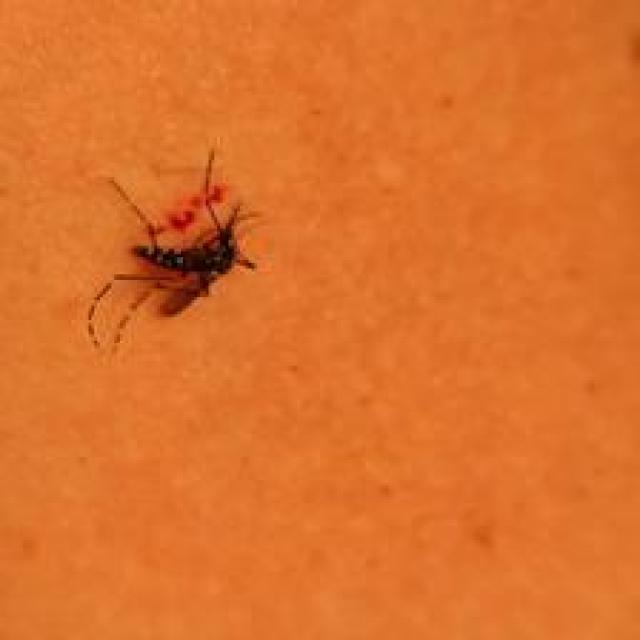Aedes albopictus: (85, 146, 262, 354)
